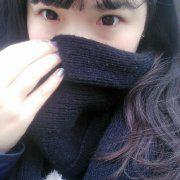OK: (27, 3, 133, 89)
